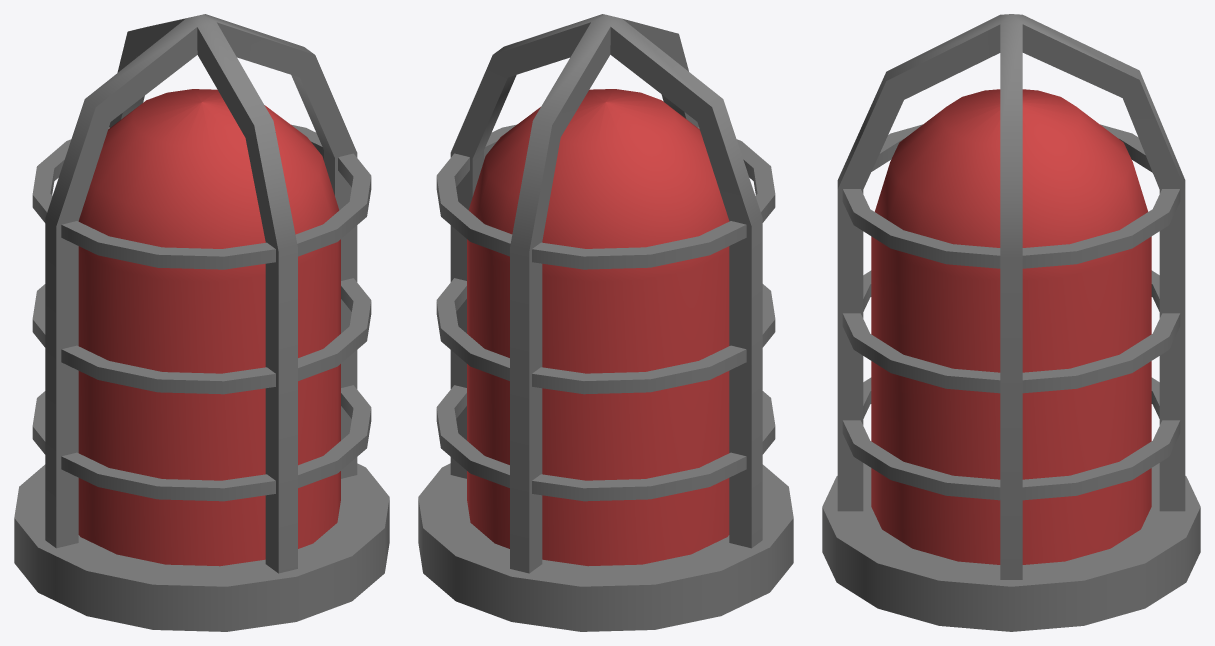
File: Red light.fbx
3 views of the same model, side by side, from view 1: azimuth 30°, elevation 25°; view 2: azimuth 150°, elevation 25°; view 3: azimuth 270°, elevation 25° (orthographic).
Parts seen in each view (by area): view 1: polySurface7; view 2: polySurface7; view 3: polySurface7.
Part boxes in pixels (bbox=[...]): polySurface7: bbox=[14, 14, 389, 631]; polySurface7: bbox=[418, 14, 793, 631]; polySurface7: bbox=[822, 14, 1200, 631].
Bounding box in the file's own units: 14.72 × 23.07 × 14.72.
